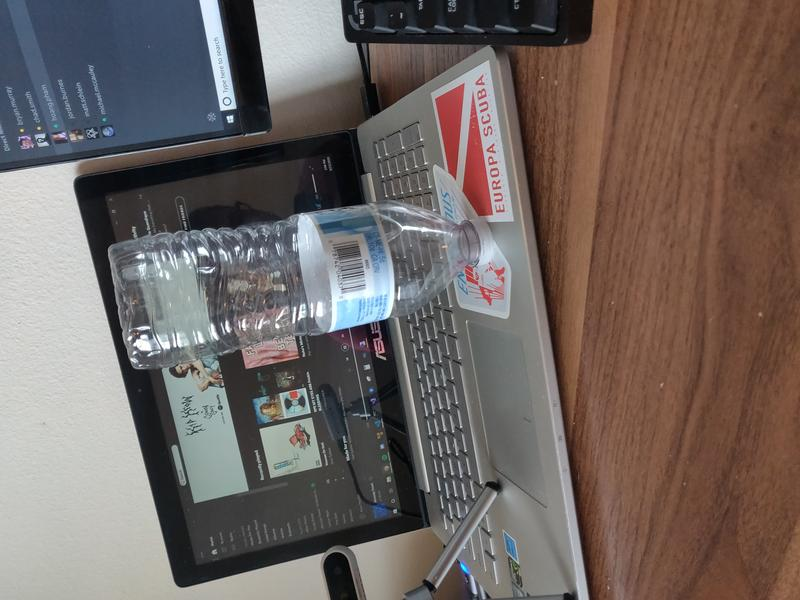bottle: (107, 200, 495, 370)
